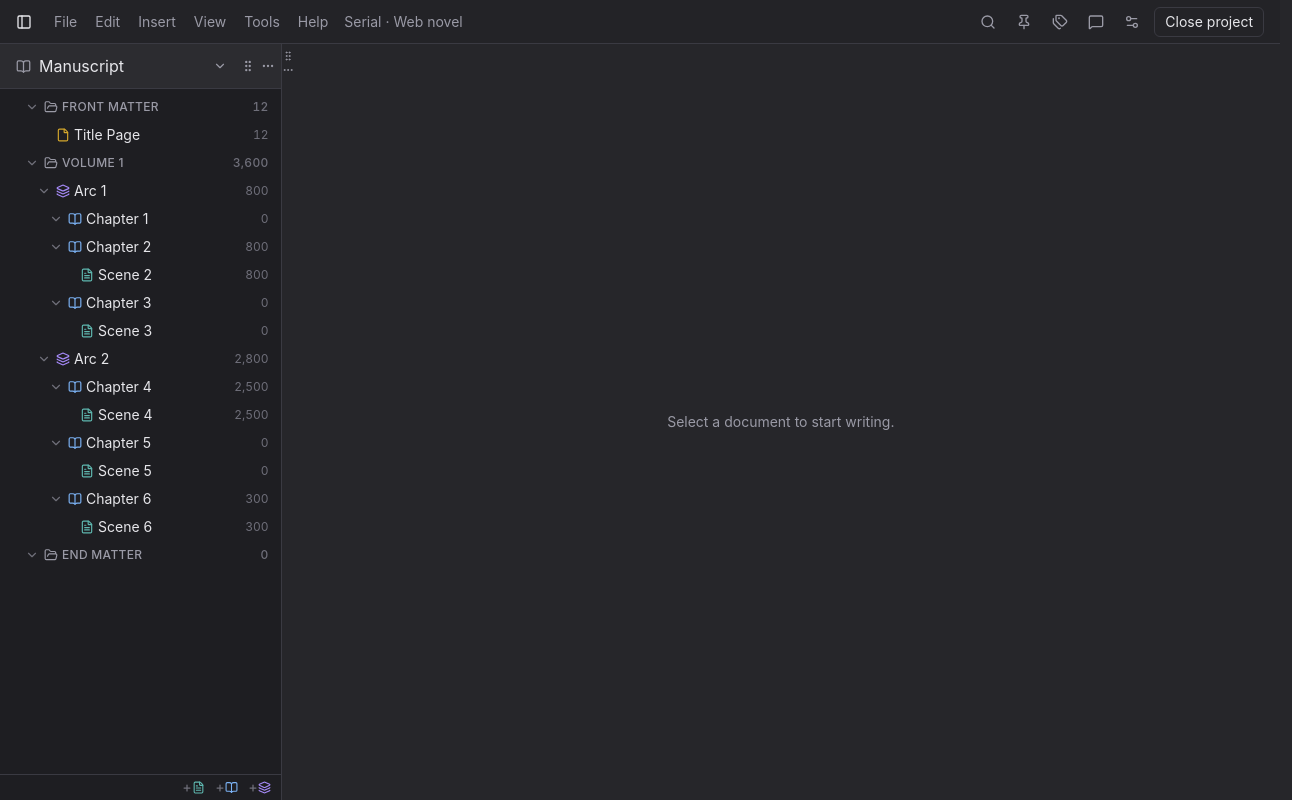
Test: App › invites the author to add a scene to an empty chapter (F-3.8)
The width and height of the screenshot is (1292, 800).
Step 1. Click the text "Chapter 1" → point(117, 218), box [86,210,148,227]
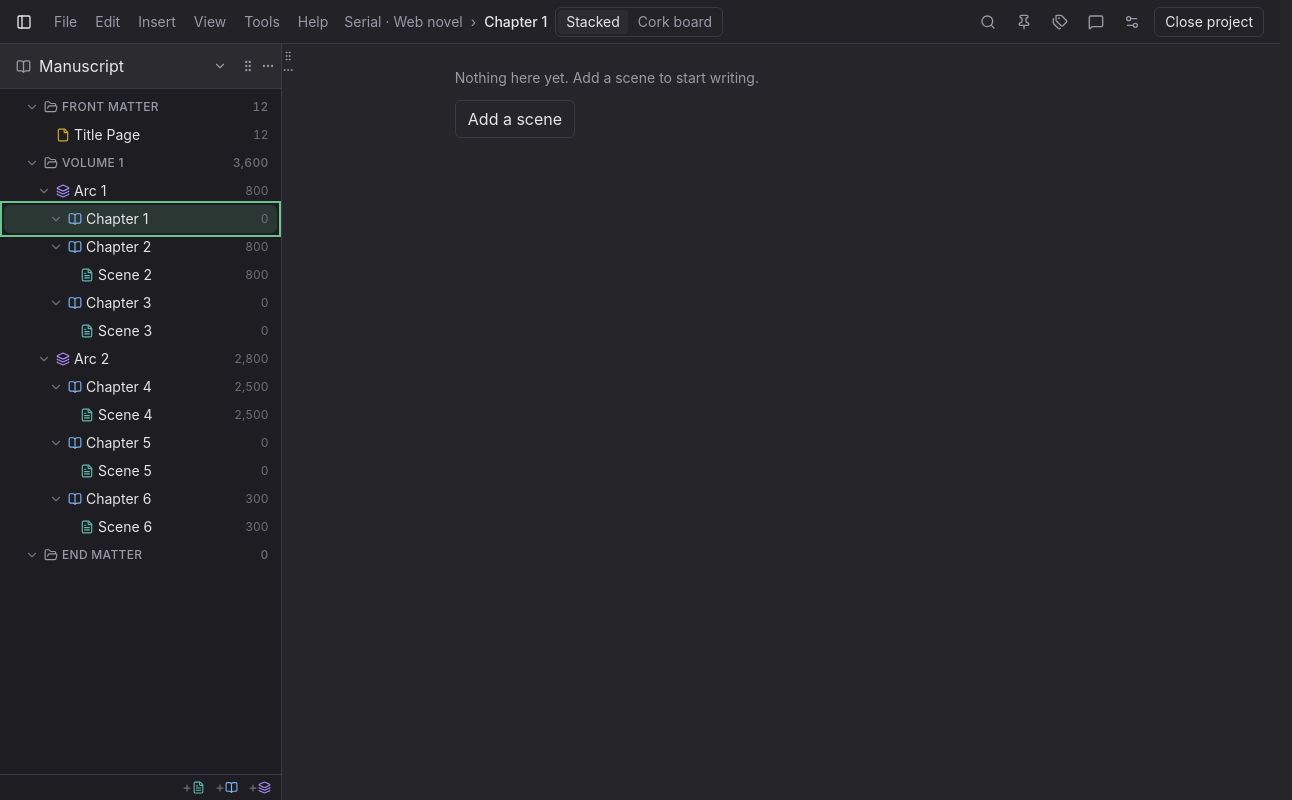
Now the text with test id "selected-title" reads "Chapter 1", box [484,12,547,30]
Now the text "Nothing here yet. Add a scene to start writing." is shown, box [455,68,759,88]
Now the button "Add a scene" is shown, box [455,100,575,138]
